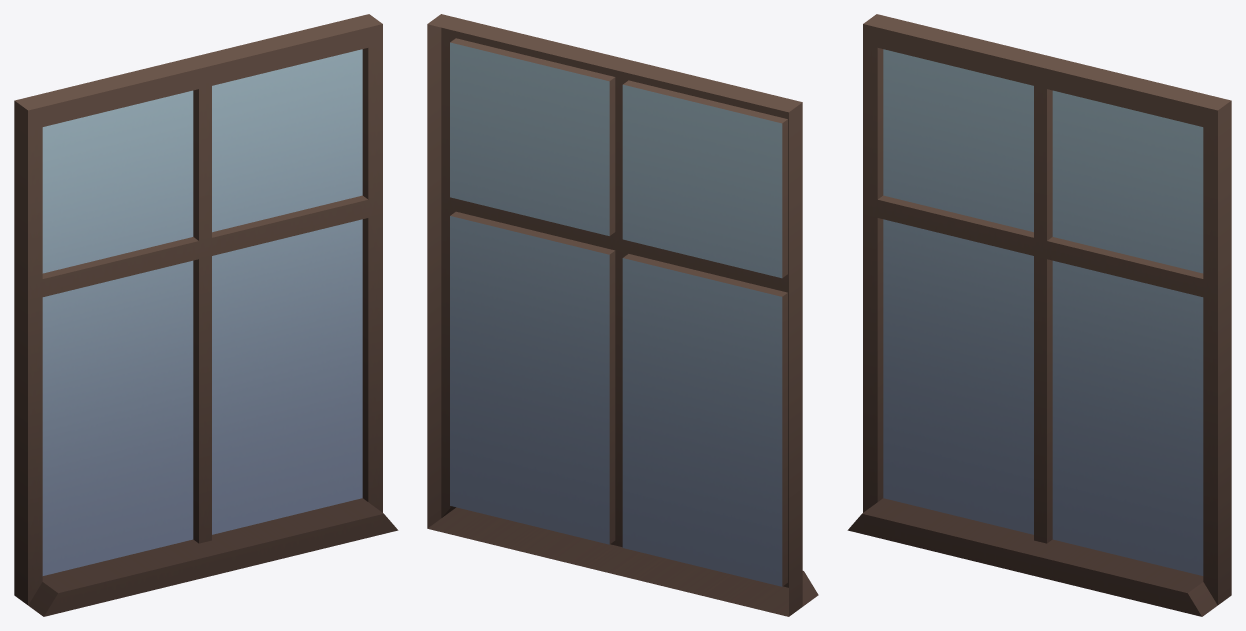
Rendered from window.fbx.
The picture shows the model from 3 angles, left to right: view 1: azimuth 30°, elevation 25°; view 2: azimuth 150°, elevation 25°; view 3: azimuth 330°, elevation 25°; orthographic projection.
Visible parts, largest first — view 1: window; view 2: window; view 3: window.
Part boxes in pixels (x1,y1,x2,y2): window: (14,14,398,616); window: (427,14,818,616); window: (847,14,1231,616).
Bounding box in the file's own units: 150 × 200 × 21.44.
